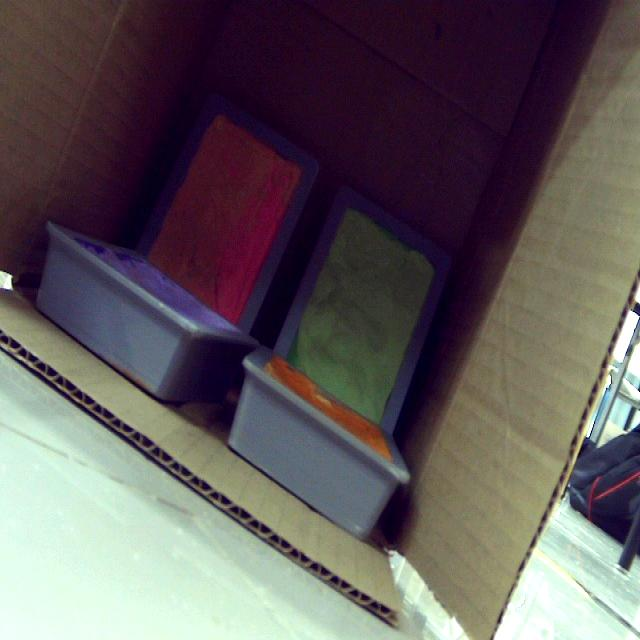block: (262, 188, 450, 436), (34, 225, 266, 407), (138, 100, 320, 330), (228, 347, 412, 542)
